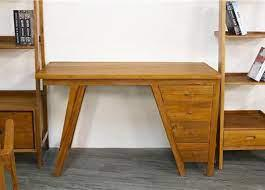desk: (38, 44, 219, 178)
